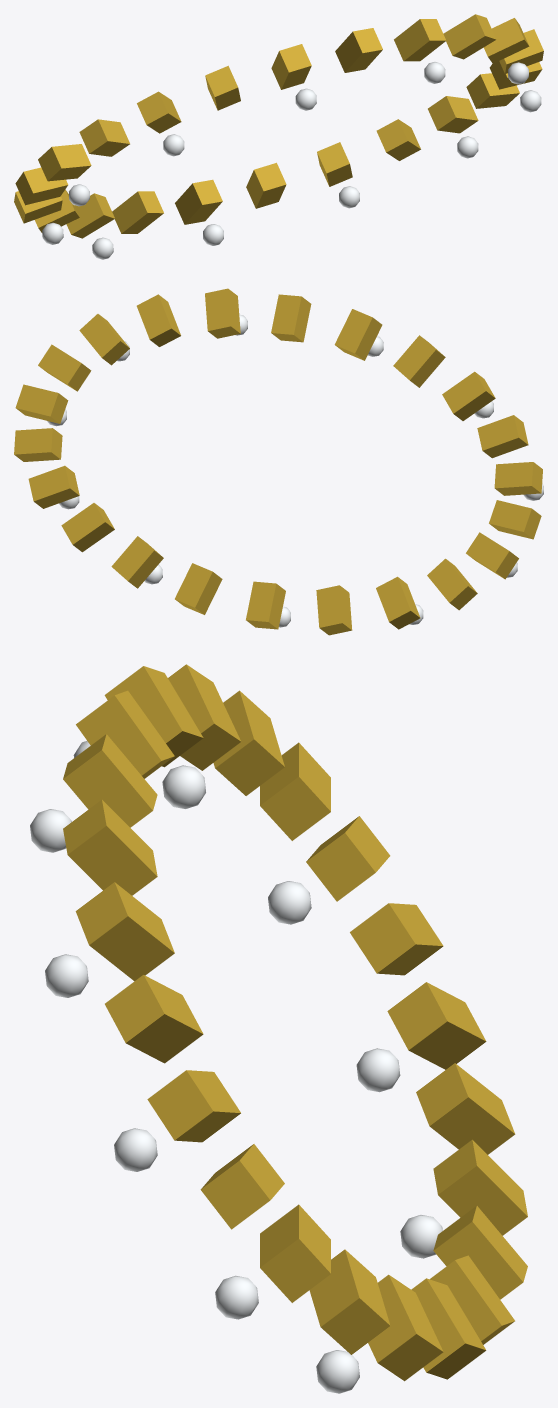
The model's file is radiant-diamond-bangles.glb.
3 renders of one model, top to bottom at view 1: azimuth 30°, elevation 25°; view 2: azimuth 150°, elevation 25°; view 3: azimuth 270°, elevation 25°, orthographic. The views are drawn at different scales.
Visible parts, largest first — view 1: bracelet_link (×22), bracelet_gem (×11); view 2: bracelet_link (×22); view 3: bracelet_link (×22), bracelet_gem (×9).
Part boxes in pixels (box(x1,y1,x2,y2)): bracelet_link (×22): box(14, 14, 543, 238); bracelet_gem (×11): box(42, 62, 541, 259); bracelet_link (×22): box(14, 288, 542, 635); bracelet_link (×22): box(63, 664, 527, 1381); bracelet_gem (×9): box(30, 765, 442, 1393).
Size of the model in its own units: 2.32 by 1.12 by 0.9842.
